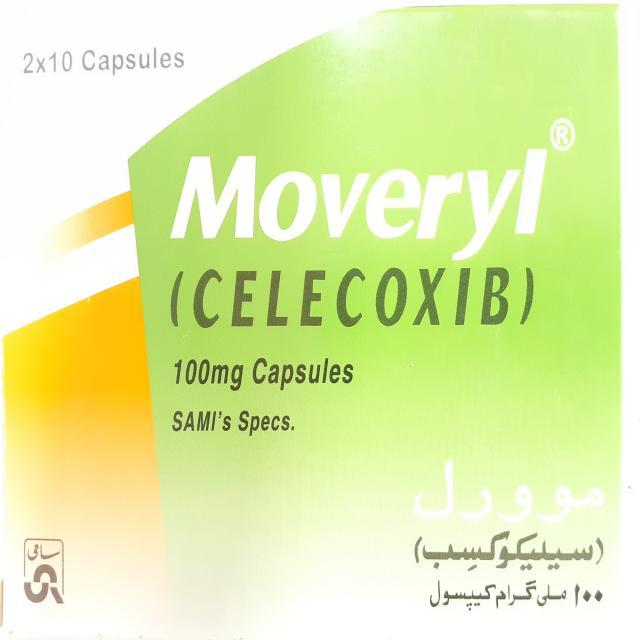drug-name: (168, 140, 552, 260)
